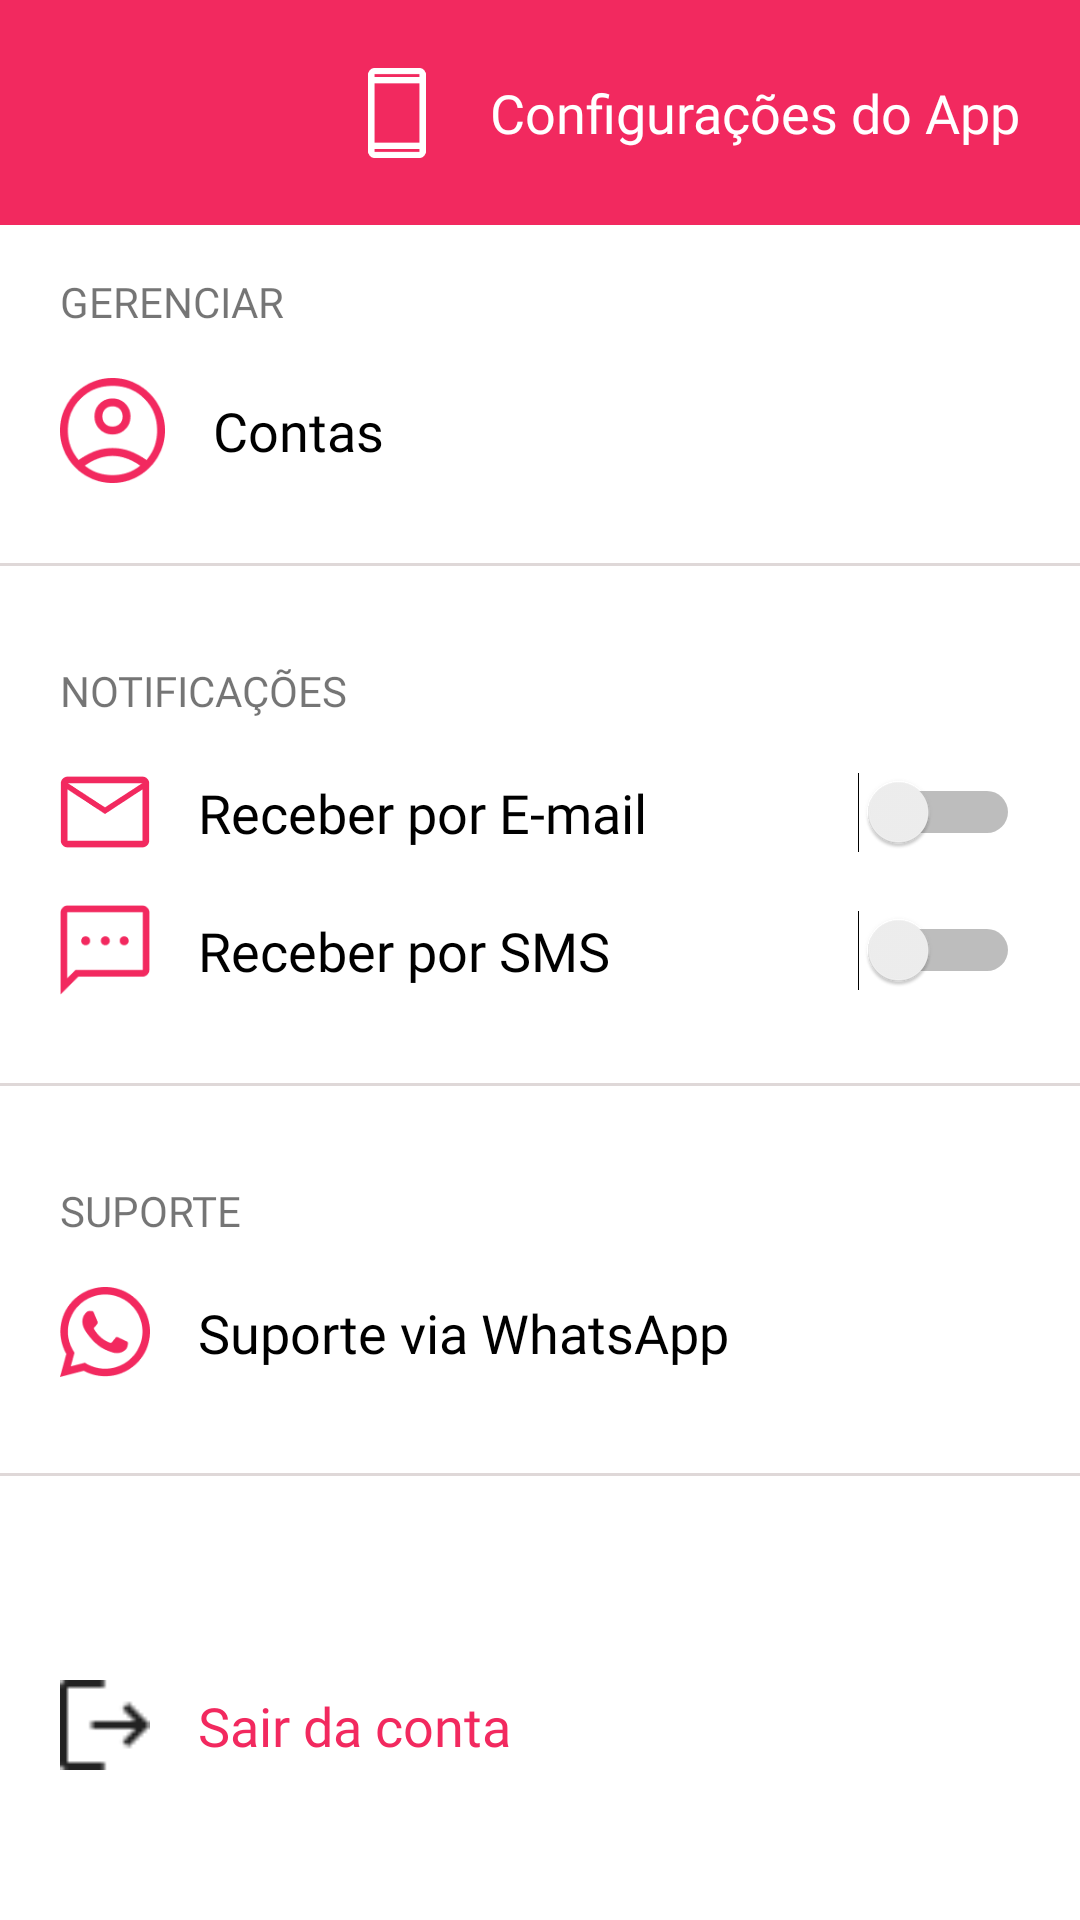

Named icons in this screenshot (1080px x 1920px) and their bounding boxes, (x1, y1, x2, y2):
config sair: (60, 1680, 150, 1770)
person acount: (60, 378, 165, 483)
smartphone branco: (368, 68, 426, 158)
